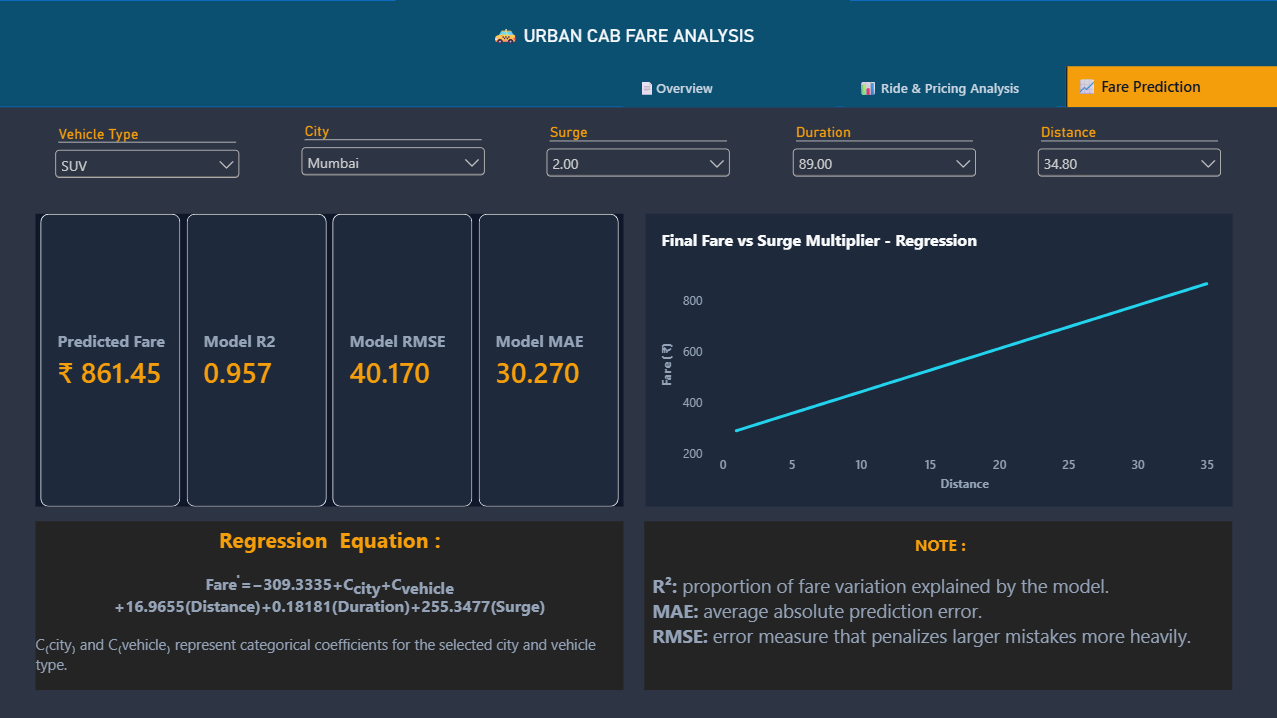

Layout of this report page (visuals, bound fields, positions):
{"tool":"powerbi","page":{"name":"📈 Fare Prediction ","canvas":[1280,720],"ordinal":2},"visuals":[{"type":"shape","title":"Menu bar","box":[0,0,1280,107.5],"z":0},{"type":"pageNavigator","title":"Menu Button","box":[625.3,65.9,655.5,41.3],"z":1000},{"type":"textbox","title":"🚕 URBAN CAB FARE ANALYSIS","box":[397.5,0,454.7,76.7],"z":2000},{"type":"lineChart","title":"Final Fare vs Surge Multiplier - Regression","fields":{"Category":["Distance Curve.Distance"],"Y":["Distance Curve.Predicted Fare Curve"]},"box":[647.7,214,587.2,293],"z":3000},{"type":"slicer","fields":{"Values":["UrbanCabFare.City"]},"box":[298.5,123.1,193,57.5],"z":4000},{"type":"slicer","fields":{"Values":["UrbanCabFare.Type_of_vehicle"]},"box":[52.3,124.4,193.8,57.5],"z":5000},{"type":"slicer","fields":{"Values":["Distance Input.Distance"]},"box":[1034.9,123.4,193,57],"z":6000},{"type":"slicer","fields":{"Values":["Duration Input.Duration"]},"box":[789.4,123.4,193,57],"z":7000},{"type":"slicer","fields":{"Values":["Surge Input.Surge"]},"box":[544,123.4,193,57],"z":8000},{"type":"cardVisual","fields":{"Data":["UrbanCabFare.Predicted Fare","UrbanCabFare.Model R2","UrbanCabFare.Model RMSE","UrbanCabFare.Model MAE"]},"box":[37.2,214,588.4,293],"z":9000},{"type":"textbox","box":[646.5,520.9,588.4,168.6],"z":10000},{"type":"textbox","box":[37.2,520.9,588.4,168.6],"z":11000}]}

Visuals, with their boxes in screenshot pixels (x1, y1, x2, y2), scaled from the page's 1280x720 canvas onto the 1277x718 screenshot:
"Menu bar" shape: <region>0, 0, 1276, 107</region>
"Menu Button" pageNavigator: <region>624, 66, 1276, 107</region>
"🚕 URBAN CAB FARE ANALYSIS" textbox: <region>397, 0, 850, 76</region>
"Final Fare vs Surge Multiplier - Regression" lineChart: <region>646, 213, 1232, 506</region>
slicer - UrbanCabFare.City: <region>298, 123, 490, 180</region>
slicer - UrbanCabFare.Type_of_vehicle: <region>52, 124, 246, 181</region>
slicer - Distance Input.Distance: <region>1032, 123, 1225, 180</region>
slicer - Duration Input.Duration: <region>788, 123, 980, 180</region>
slicer - Surge Input.Surge: <region>543, 123, 735, 180</region>
cardVisual - UrbanCabFare.Predicted Fare x UrbanCabFare.Model R2: <region>37, 213, 624, 506</region>
textbox: <region>645, 519, 1232, 688</region>
textbox: <region>37, 519, 624, 688</region>
